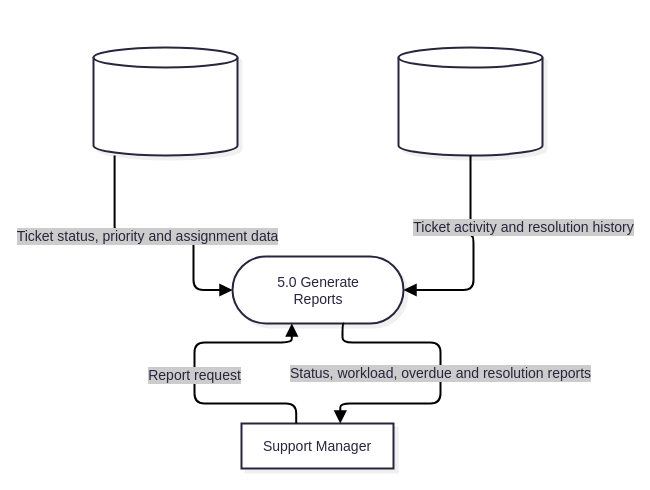
Image size: 650x490. Some labels were removed from this diagram. The centre of each missing label's shape, as x and y in pixels:
"D1 Ticket Records" belongs at point 167,103.
"D2 Ticket History" belongs at point 472,103.
